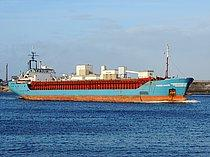Ship: (7, 44, 197, 104)
